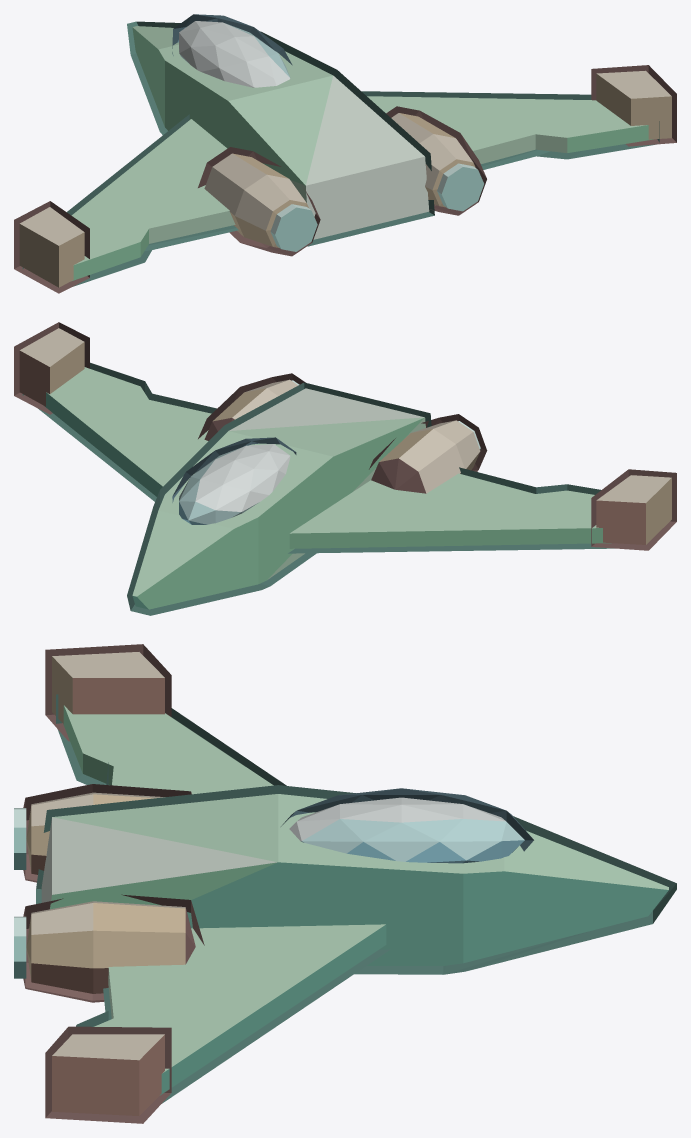
The model's file is ship_air_kite_c1.glb.
3 views of the same model, one above another, from view 1: azimuth 30°, elevation 25°; view 2: azimuth 150°, elevation 25°; view 3: azimuth 270°, elevation 25° (orthographic). The views are drawn at different scales.
Visible parts, largest first — view 1: ship_air_kite_c1; view 2: ship_air_kite_c1; view 3: ship_air_kite_c1.
Part boxes in pixels (x1,y1,x2,y2): ship_air_kite_c1: [14, 14, 676, 293]; ship_air_kite_c1: [14, 322, 676, 615]; ship_air_kite_c1: [14, 644, 676, 1123].
Size of what is drawn, in the model's own units: 9.53 by 1.61 by 6.45.
